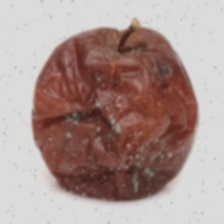apple: (56, 32, 200, 196)
